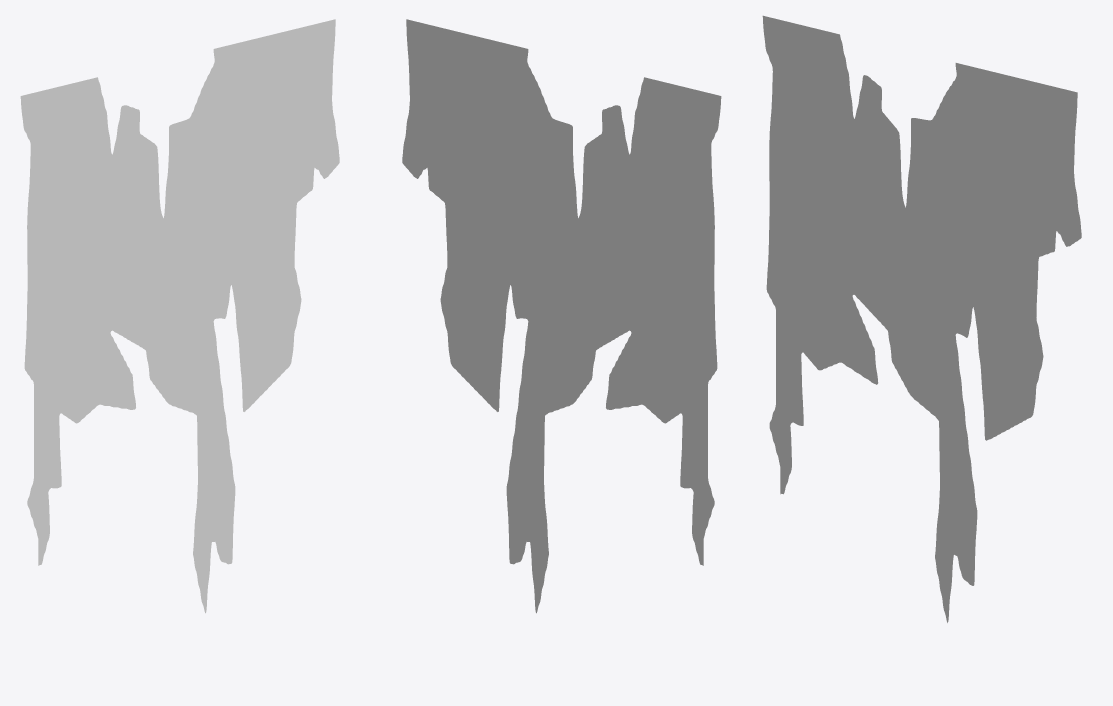
The model's file is SM_Prop_Flag_Piece_01.fbx.
3 views of the same model, side by side, from view 1: azimuth 30°, elevation 25°; view 2: azimuth 150°, elevation 25°; view 3: azimuth 330°, elevation 25° (orthographic).
Parts seen in each view (by area): view 1: SM_Prop_Flag_Piece_01; view 2: SM_Prop_Flag_Piece_01; view 3: SM_Prop_Flag_Piece_01.
Part boxes in pixels (x1,y1,x2,y2): SM_Prop_Flag_Piece_01: (20,19,339,613); SM_Prop_Flag_Piece_01: (402,19,721,613); SM_Prop_Flag_Piece_01: (762,15,1081,622).
Size of the model in its own units: 83.26 by 138 by 0.
